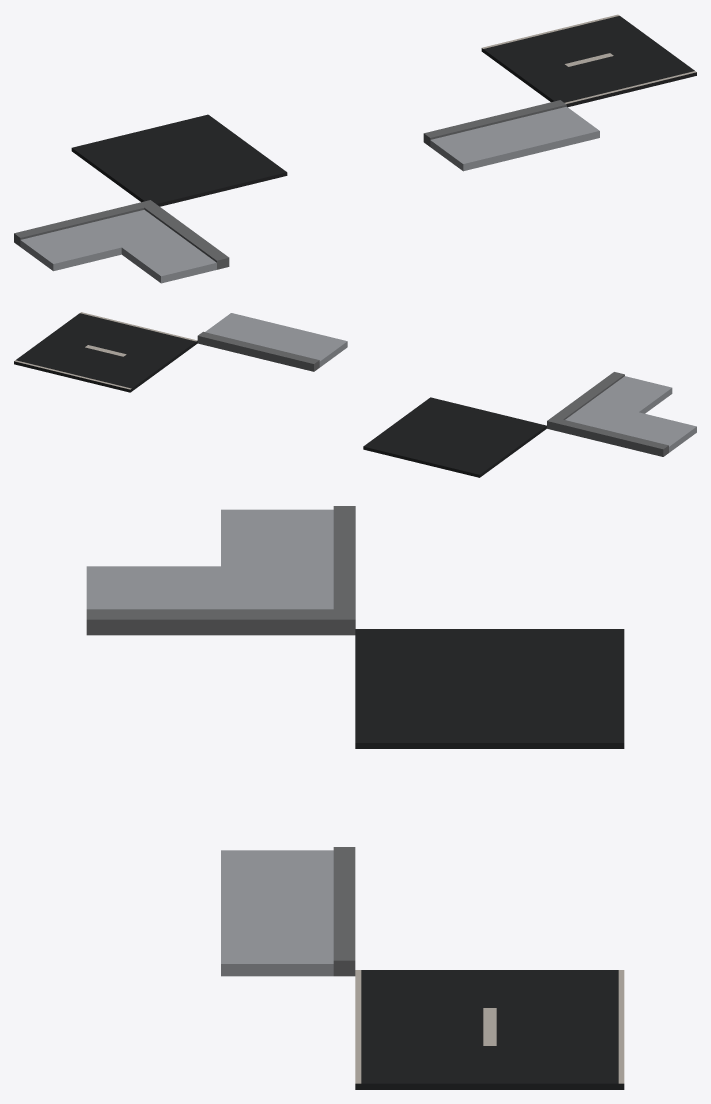
Rendered from Pavement.glb.
3 views of the same model, one above another, from view 1: azimuth 30°, elevation 25°; view 2: azimuth 150°, elevation 25°; view 3: azimuth 270°, elevation 25° (orthographic). The views are drawn at different scales.
Parts seen in each view (by area): view 1: SM_road_05__237_, SM_road_05__234_, SM_sidewalk_02__109_, SM_sidewalk_01__271_; view 2: SM_road_05__237_, SM_road_05__234_, SM_sidewalk_02__109_, SM_sidewalk_01__271_; view 3: SM_road_05__234_, SM_road_05__237_, SM_sidewalk_02__109_, SM_sidewalk_01__271_.
Part boxes in pixels (x1,y1,x2,y2): SM_road_05__237_: (481,14,696,107); SM_road_05__234_: (71,114,287,206); SM_sidewalk_02__109_: (14,200,229,283); SM_sidewalk_01__271_: (423,100,599,171); SM_road_05__237_: (14,312,197,392); SM_road_05__234_: (363,397,546,477); SM_sidewalk_02__109_: (547,372,696,456); SM_sidewalk_01__271_: (197,313,347,371); SM_road_05__234_: (355,629,624,748); SM_road_05__237_: (355,970,624,1089); SM_sidewalk_02__109_: (86,506,355,635); SM_sidewalk_01__271_: (221,847,355,976).
Bounding box in the file's own units: 10 × 0.1284 × 4.
1 material, 1 textured.
